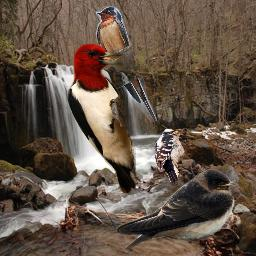Swallow: (116, 169, 237, 251), (96, 6, 157, 122)
Woodpecker: (67, 43, 136, 194), (153, 127, 192, 186)
